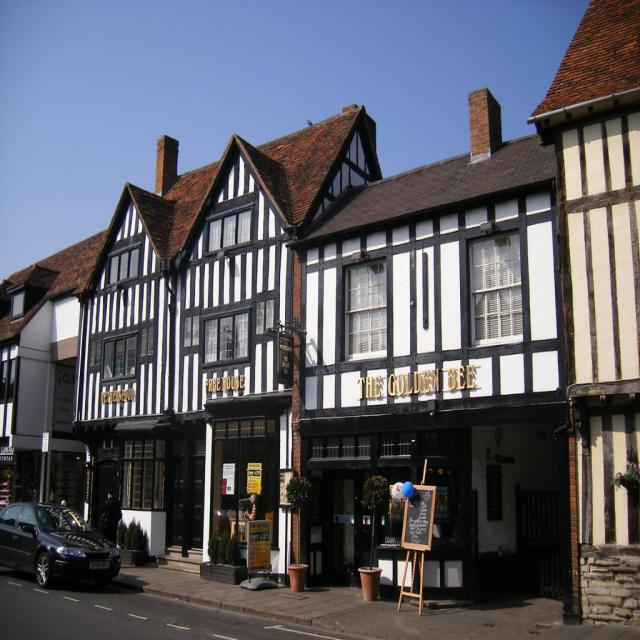car: (7, 502, 122, 594)
